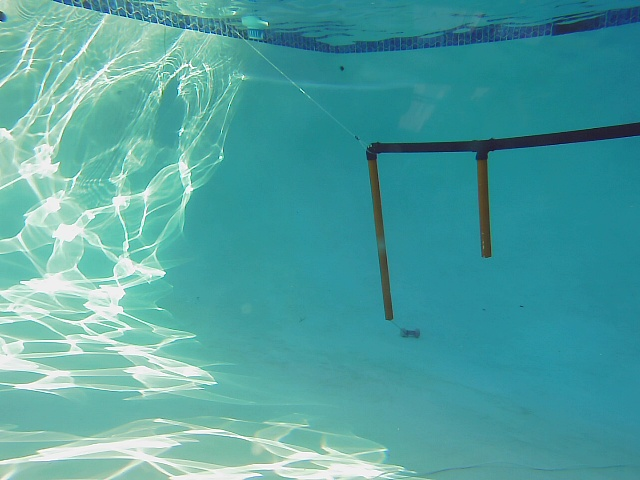Gate: (369, 153, 396, 320), (473, 153, 495, 260)
